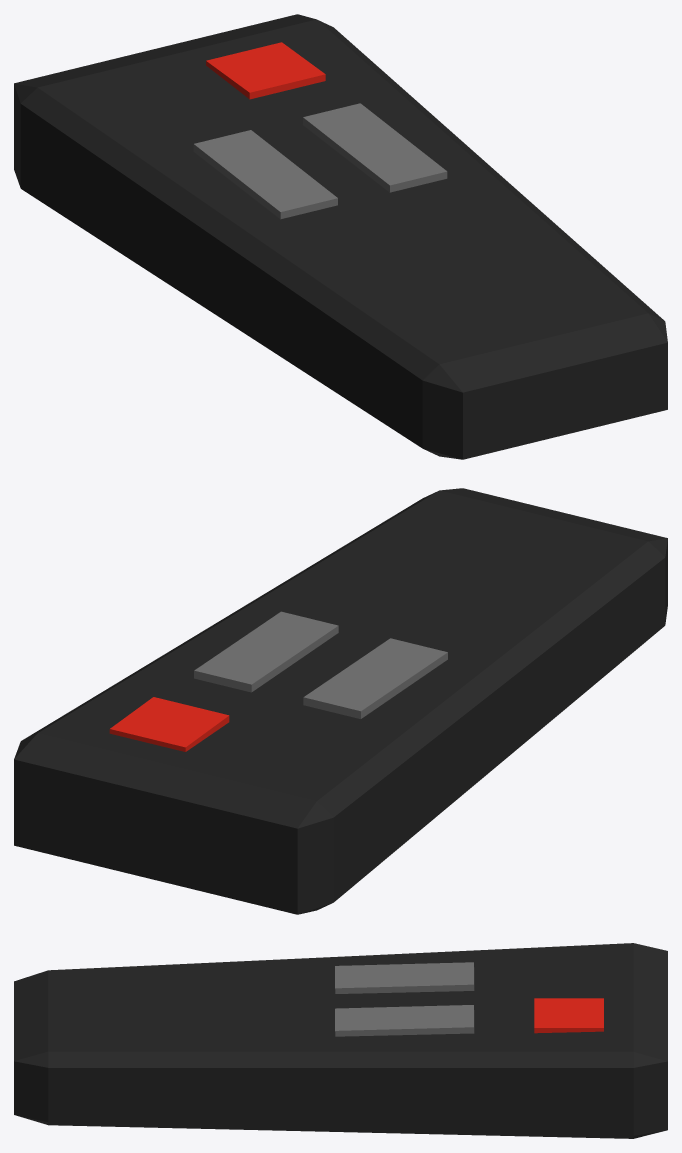
The model's file is remote.fbx.
3 views of the same model, one above another, from view 1: azimuth 30°, elevation 25°; view 2: azimuth 150°, elevation 25°; view 3: azimuth 270°, elevation 25° (orthographic). The views are drawn at different scales.
Parts seen in each view (by area): view 1: Remote; view 2: Remote; view 3: Remote.
Part boxes in pixels (x1,y1,x2,y2): Remote: (14,14,667,459); Remote: (14,488,667,914); Remote: (14,943,667,1138).
Bounding box in the file's own units: 17.45 × 39.58 × 6.02.
